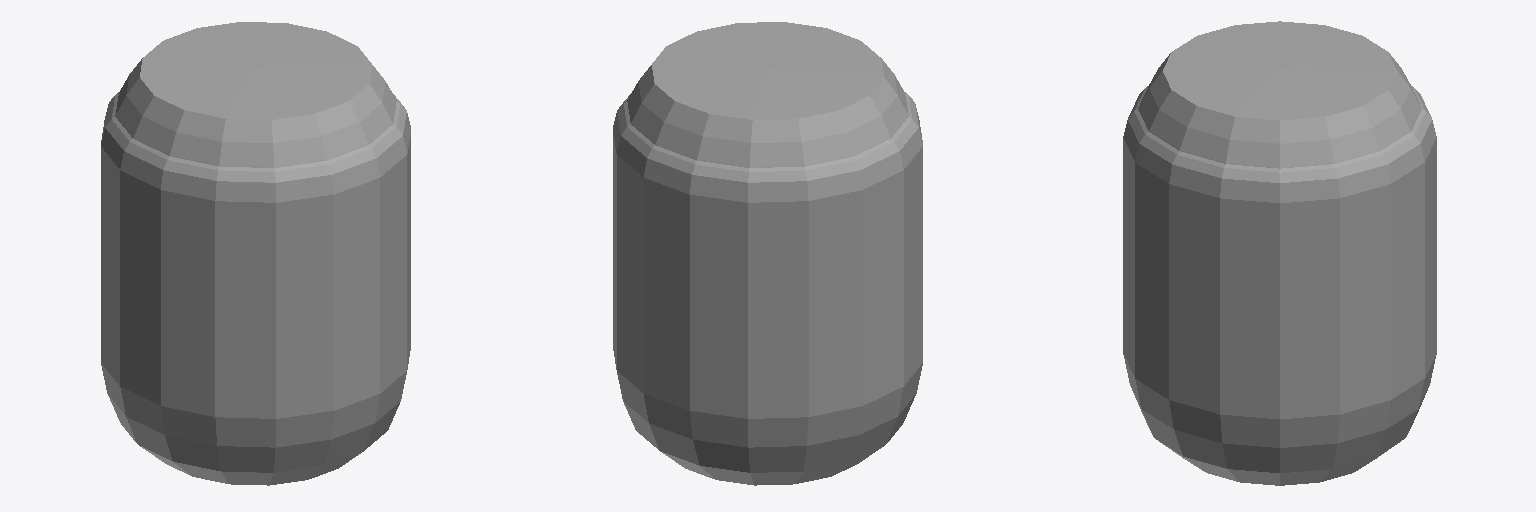
File: Soap_Bottle_10_0.obj
3 views of the same model, side by side, from view 1: azimuth 30°, elevation 25°; view 2: azimuth 150°, elevation 25°; view 3: azimuth 270°, elevation 25° (orthographic).
Size of the model in its own units: 0.1208 by 0.159 by 0.1208.